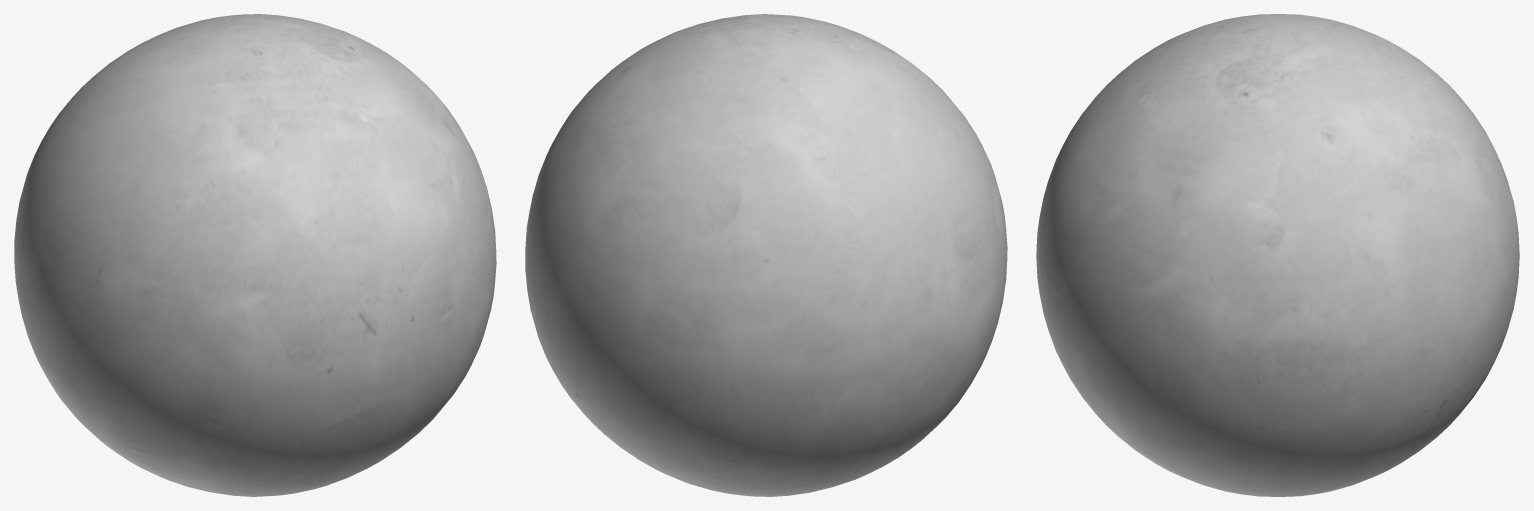
Rendered from snowball.fbx.
3 views of the same model, side by side, from view 1: azimuth 30°, elevation 25°; view 2: azimuth 150°, elevation 25°; view 3: azimuth 270°, elevation 25° (orthographic).
Visible parts, largest first — view 1: Object_4; view 2: Object_4; view 3: Object_4.
Part boxes in pixels (x1,y1,x2,y2): Object_4: (14, 14, 496, 496); Object_4: (525, 14, 1007, 496); Object_4: (1036, 14, 1519, 496).
Size of the model in its own units: 207 by 208 by 207.
Materials: 1 (1 with a texture image).
